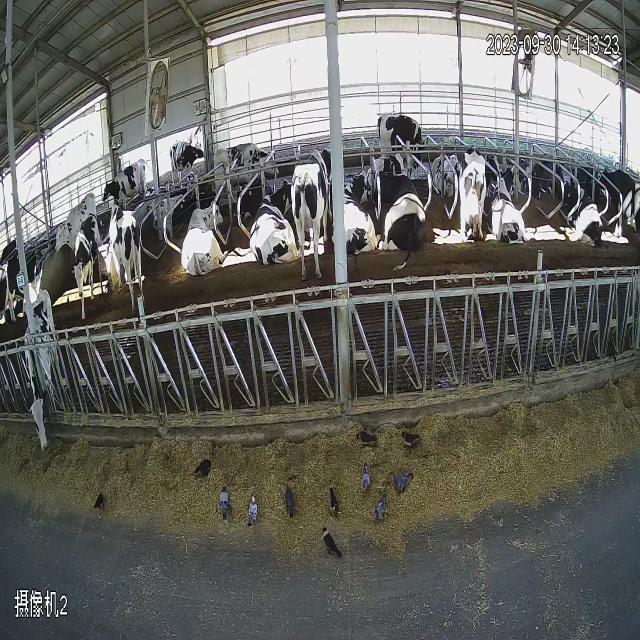drinking: (102, 187, 156, 332)
feeding: (8, 284, 80, 474)
lying down: (486, 101, 640, 258), (174, 174, 294, 294), (344, 156, 432, 282), (434, 136, 462, 222)
standing: (290, 122, 342, 310), (456, 111, 494, 264)
